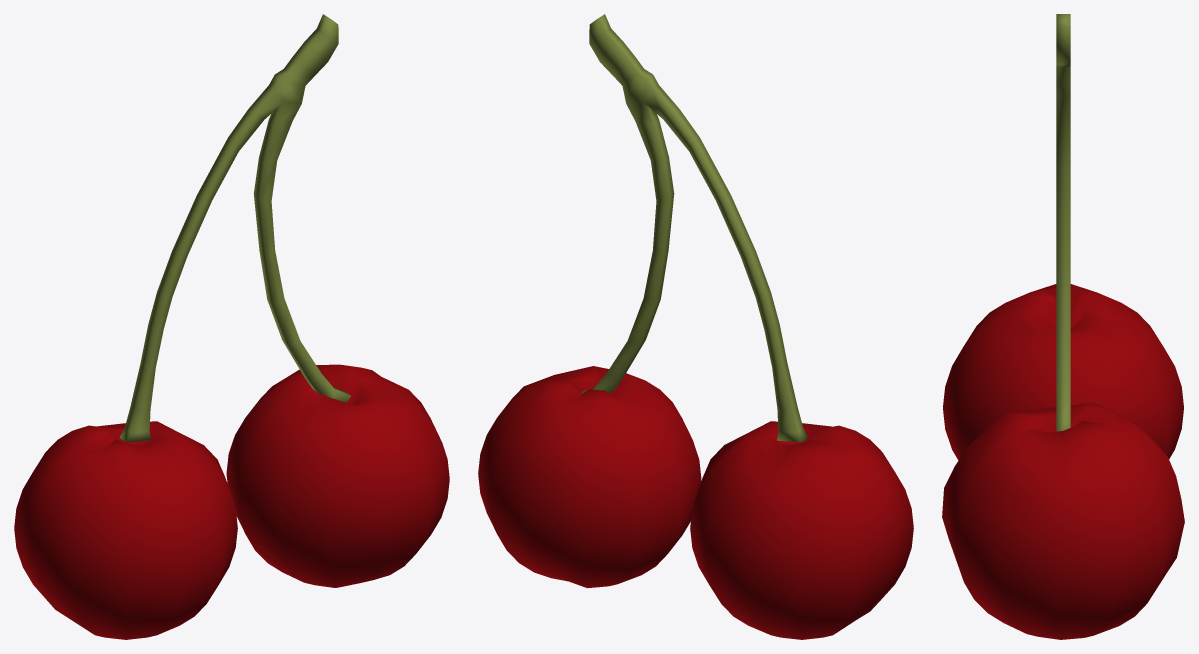
The model's file is cherry.glb.
The picture shows the model from 3 angles, left to right: view 1: azimuth 30°, elevation 25°; view 2: azimuth 150°, elevation 25°; view 3: azimuth 270°, elevation 25°; orthographic projection. The views are drawn at different scales.
Parts seen in each view (by area): view 1: Cube; view 2: Cube; view 3: Cube.
Boxes of the visible parts, x1,y1,x2,y2 form: Cube: (14,14,449,639); Cube: (478,14,913,639); Cube: (942,14,1184,639).
Bounding box in the file's own units: 3.57 × 4.75 × 1.72.
